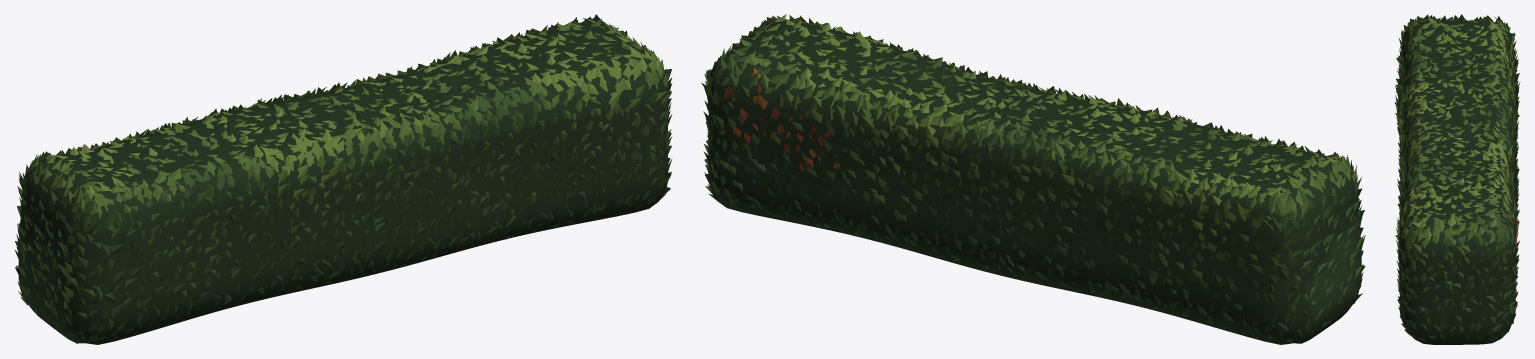
Rendered from hedge_a.glb.
3 views of the same model, side by side, from view 1: azimuth 30°, elevation 25°; view 2: azimuth 150°, elevation 25°; view 3: azimuth 270°, elevation 25° (orthographic). The views are drawn at different scales.
Parts seen in each view (by area): view 1: foliage, leaves; view 2: foliage, leaves; view 3: foliage, leaves.
Boxes of the visible parts, x1=… form: foliage: x1=18, y1=21, x2=668, y2=344; leaves: x1=15, y1=14, x2=672, y2=342; foliage: x1=708, y1=20, x2=1361, y2=344; leaves: x1=701, y1=14, x2=1365, y2=342; foliage: x1=1398, y1=20, x2=1517, y2=344; leaves: x1=1394, y1=14, x2=1520, y2=341.
Size of what is drawn, in the model's own units: 3.98 by 1.02 by 0.9341.
